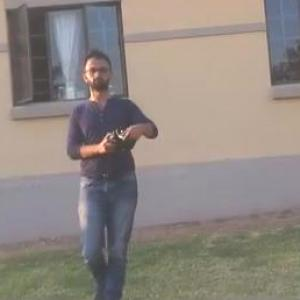follow: (59, 32, 164, 299)
